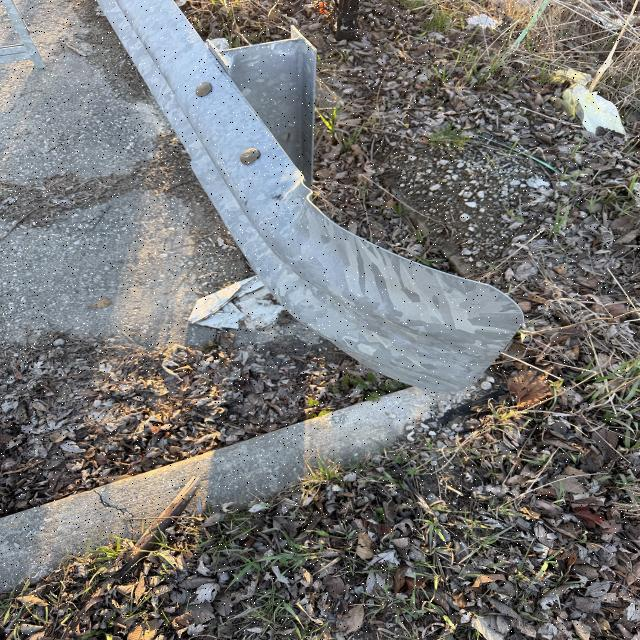Guard rail: (92, 43, 500, 363)
